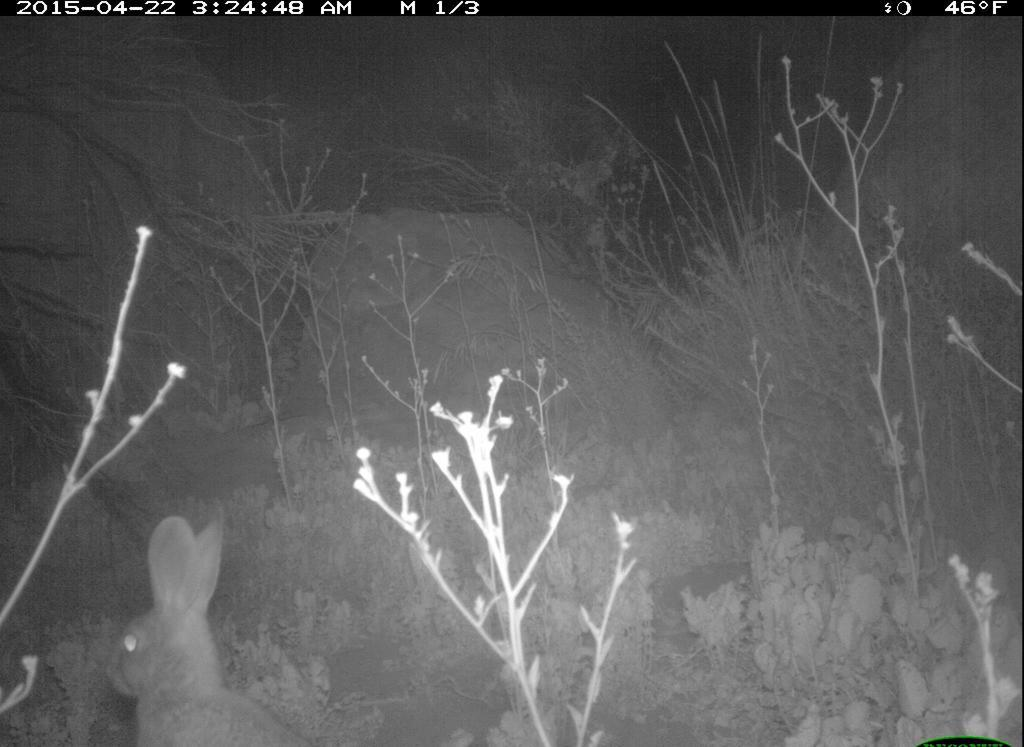rabbit: (105, 511, 323, 747)
